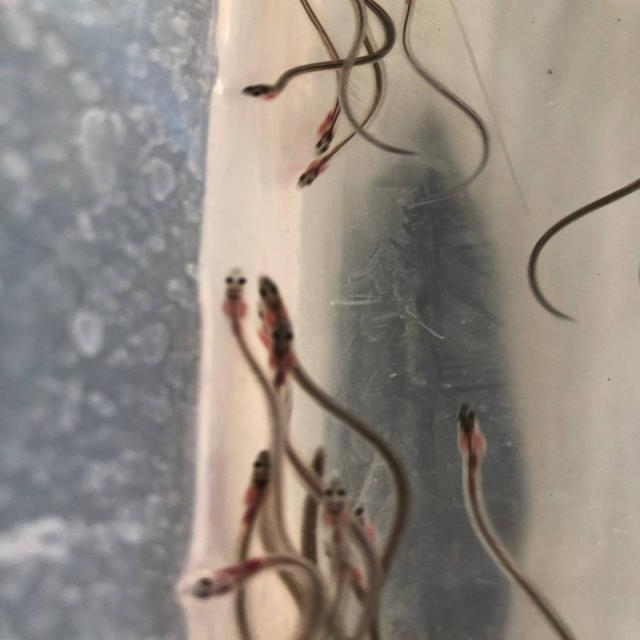glass_eel: (168, 562, 262, 609), (250, 315, 307, 391), (438, 397, 499, 466), (202, 264, 257, 331), (291, 110, 358, 159), (248, 265, 300, 324), (302, 471, 357, 526), (234, 62, 300, 107), (242, 442, 292, 500), (287, 159, 337, 201)
